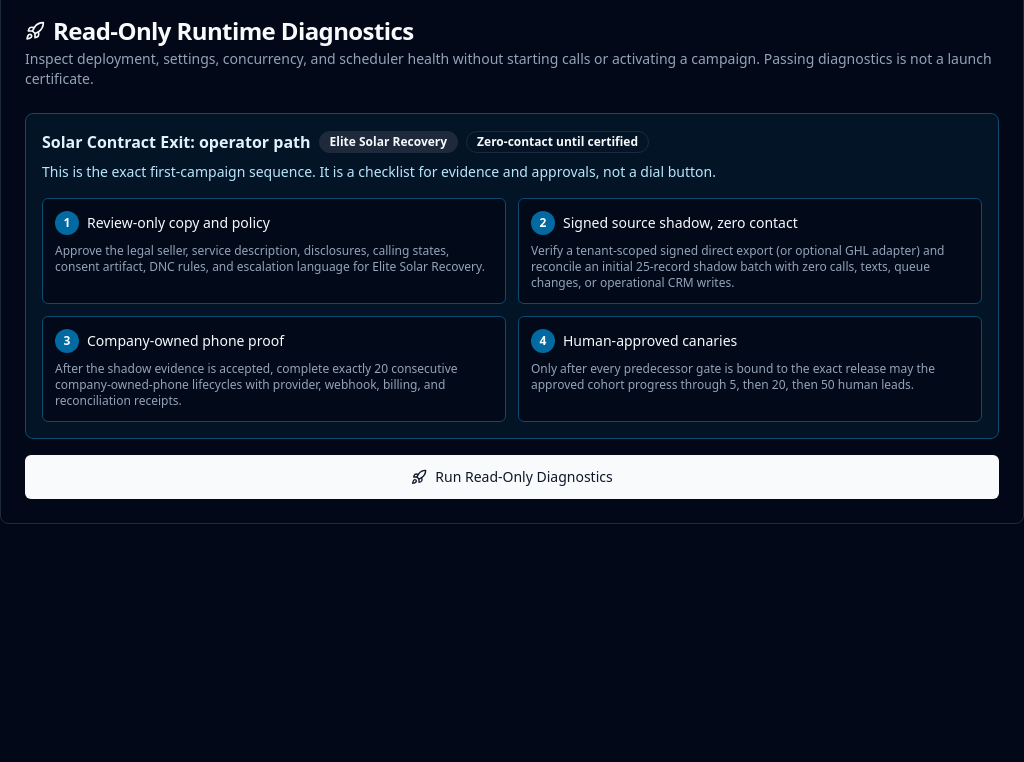
CampaignLaunchVerification › reports runtime diagnostics without ever claiming launch readiness
Expected: the heading "Solar Contract Exit: operator path" is shown, [42, 130, 310, 154]
Expected: the text "Review-only copy and policy" is shown, [87, 213, 270, 233]
Click the button "Run Read-Only Diagnostics": coordinates (512, 477) [25, 455, 999, 499]
(page scrolled)
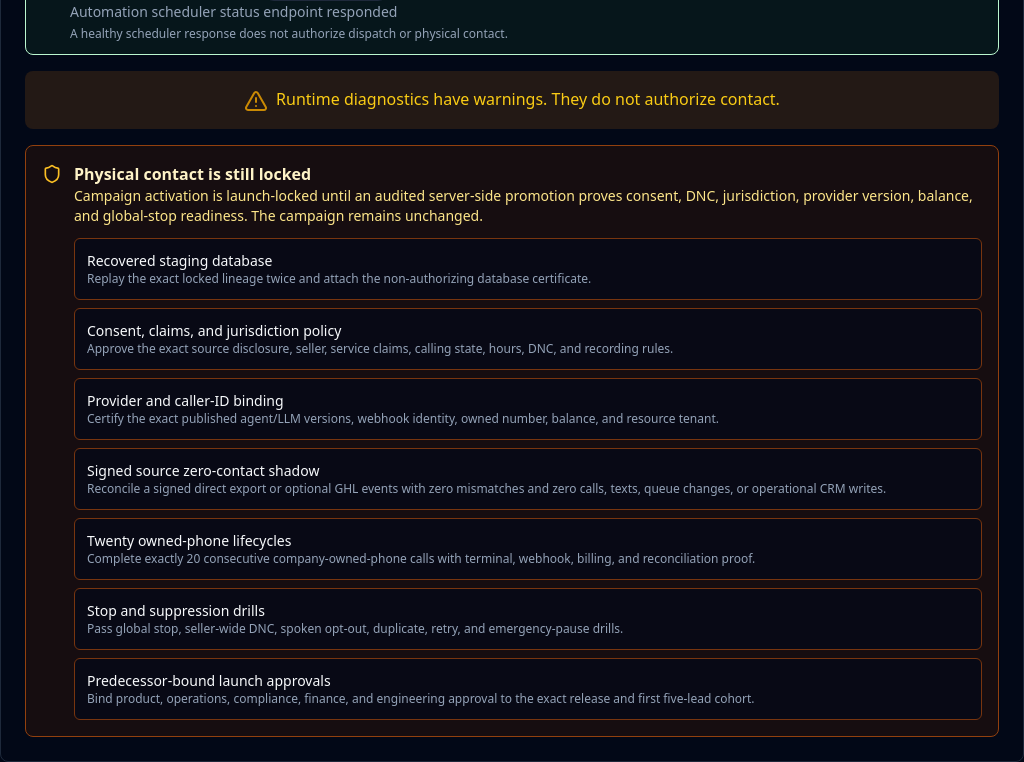
Now the text "Runtime diagnostics have warnings" is shown, box [276, 88, 780, 110]
Now the text "Physical contact is still locked" is shown, box [74, 163, 311, 185]
Now the text "Recovered staging database" is shown, box [87, 251, 272, 270]
